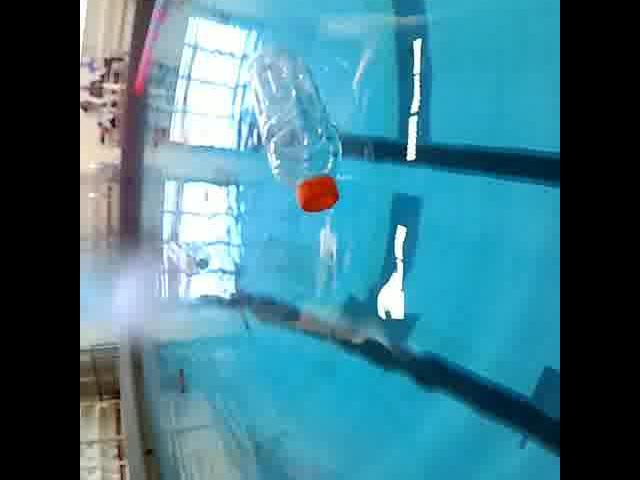Bottle: (242, 41, 350, 220)
